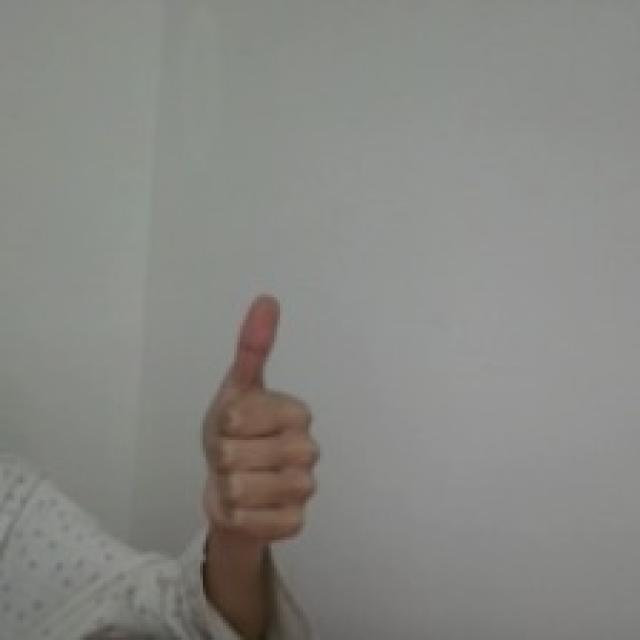fine: (192, 286, 327, 551)
